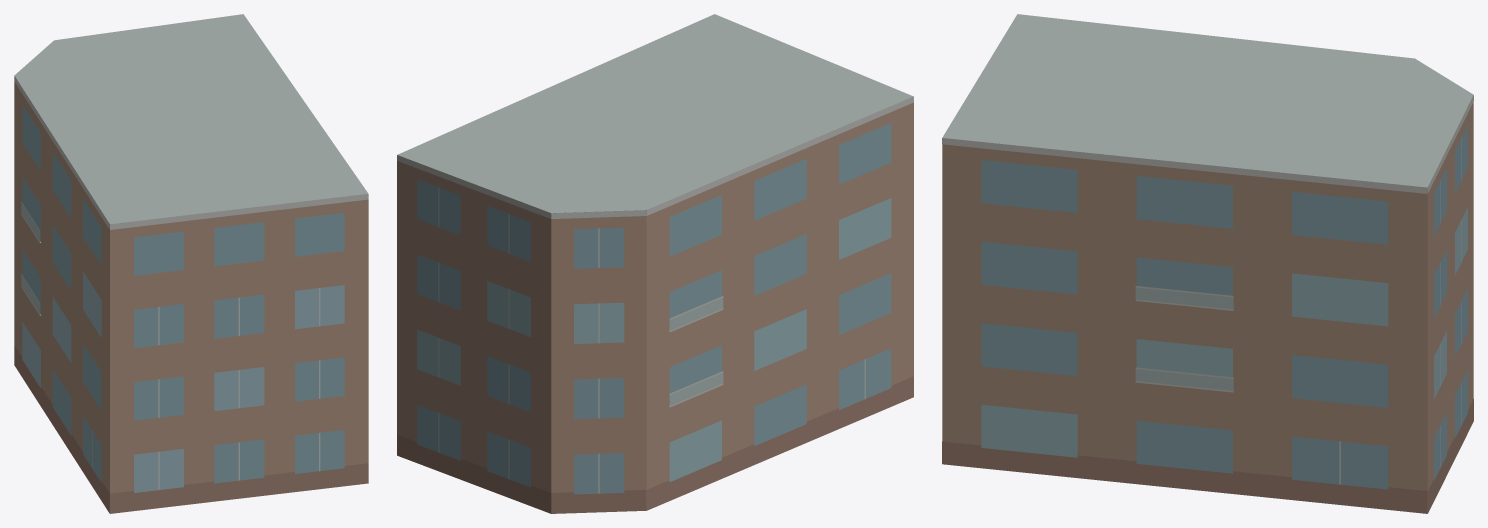
File: survey-upis-32941922.glb
3 views of the same model, side by side, from view 1: azimuth 30°, elevation 25°; view 2: azimuth 150°, elevation 25°; view 3: azimuth 270°, elevation 25° (orthographic). The views are drawn at different scales.
Parts seen in each view (by area): view 1: survey-upis-32941922.tmp; view 2: survey-upis-32941922.tmp; view 3: survey-upis-32941922.tmp.
Part boxes in pixels (box(x1,y1,x2,y2)): survey-upis-32941922.tmp: box(14, 14, 368, 513); survey-upis-32941922.tmp: box(397, 14, 913, 513); survey-upis-32941922.tmp: box(942, 14, 1473, 513).
Size of the model in its own units: 14.15 by 12.4 by 18.32.
